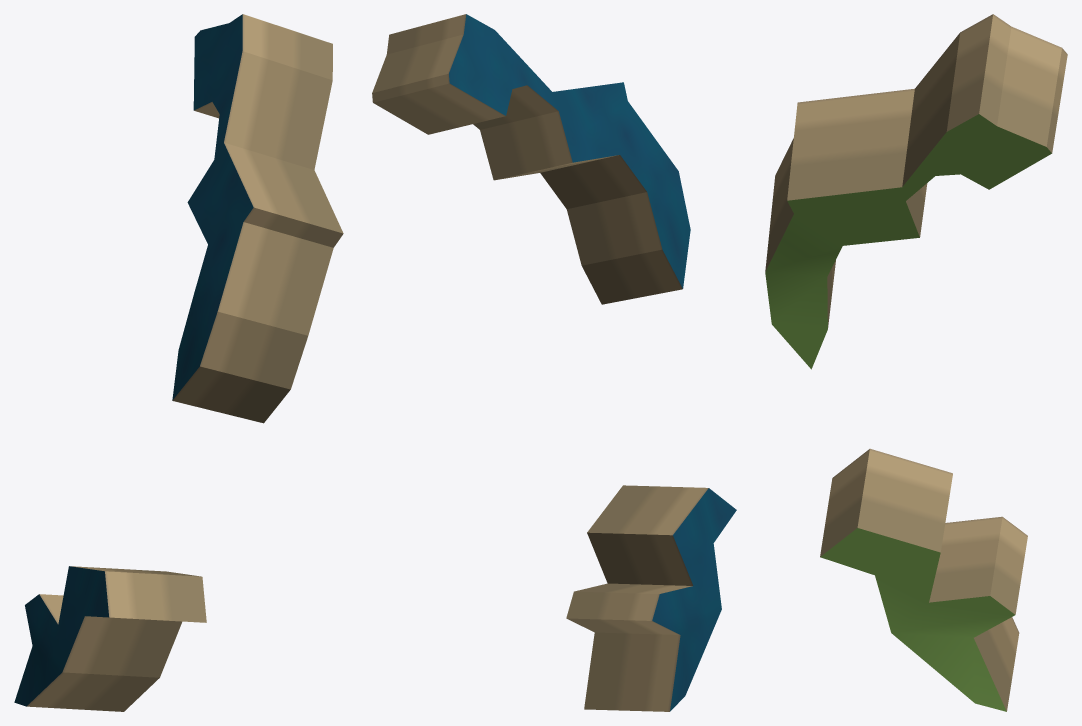
The model's file is 0628_Malaysia.glb.
3 views of the same model, side by side, from view 1: azimuth 30°, elevation 25°; view 2: azimuth 150°, elevation 25°; view 3: azimuth 270°, elevation 25° (orthographic). The views are drawn at different scales.
Visible parts, largest first — view 1: part_0; view 2: part_0; view 3: part_0.
Part boxes in pixels (x1=…): part_0: x1=14, y1=14, x2=343, y2=711; part_0: x1=372, y1=14, x2=736, y2=711; part_0: x1=765, y1=14, x2=1067, y2=711.
Size of the model in its own units: 0.6359 by 1.34 by 0.4775.
Materials: 1 (1 with a texture image).
